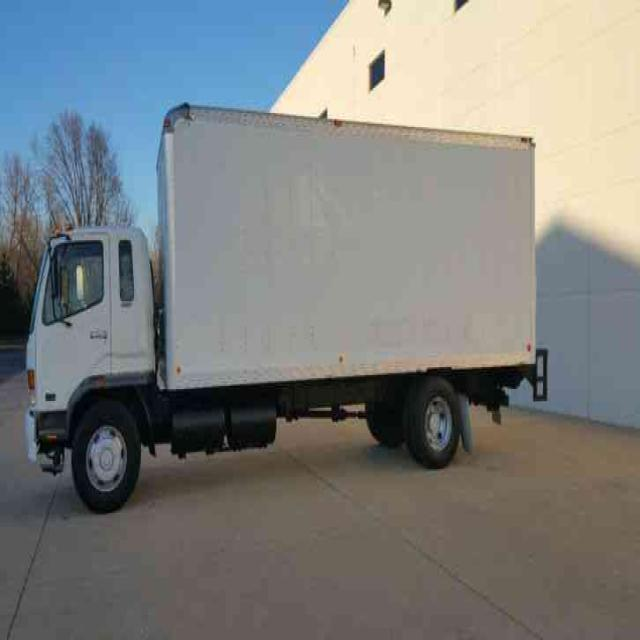truck: (24, 99, 549, 510)
